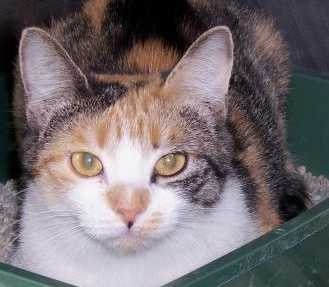Cat: (0, 13, 292, 264)
